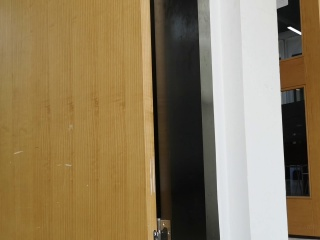room: (4, 1, 230, 240), (271, 1, 320, 234)
